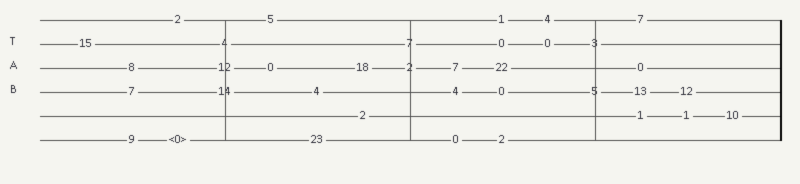0: (268, 62, 278, 74), (453, 134, 463, 146), (499, 86, 509, 98), (499, 38, 509, 50), (545, 38, 555, 50), (638, 62, 648, 74)
1: (499, 14, 509, 26), (638, 110, 648, 122), (684, 110, 694, 122)
10: (727, 110, 743, 122)
12: (219, 62, 235, 74), (681, 86, 697, 98)
13: (635, 86, 651, 98)
14: (219, 86, 235, 98)
15: (80, 38, 96, 50)
18: (357, 62, 373, 74)
2: (175, 14, 185, 26), (360, 110, 370, 122), (407, 62, 417, 74), (499, 134, 509, 146)
22: (496, 62, 512, 74)
23: (311, 134, 327, 146)
3: (592, 38, 602, 50)
4: (222, 38, 232, 50), (314, 86, 324, 98), (453, 86, 463, 98), (545, 14, 555, 26)
5: (268, 14, 278, 26), (592, 86, 602, 98)
7: (129, 86, 139, 98), (407, 38, 417, 50), (453, 62, 463, 74), (638, 14, 648, 26)
8: (129, 62, 139, 74)
9: (129, 134, 139, 146)
harmonic: (169, 134, 191, 146)
